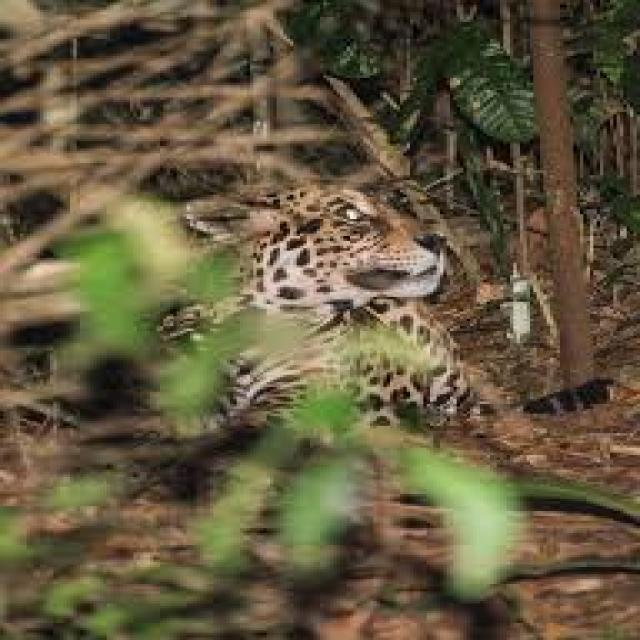Jaguar: (180, 175, 520, 426)
